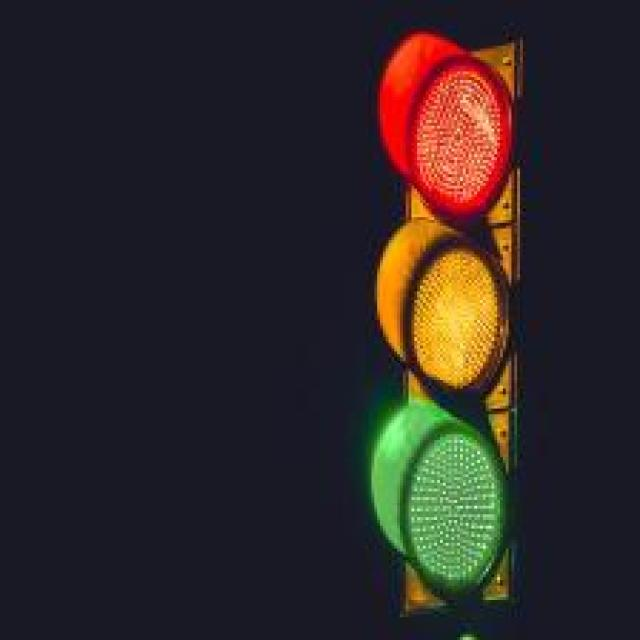green-lights: (366, 406, 531, 603)
red-lights: (376, 30, 513, 227)
yellow-lights: (378, 227, 524, 404)
